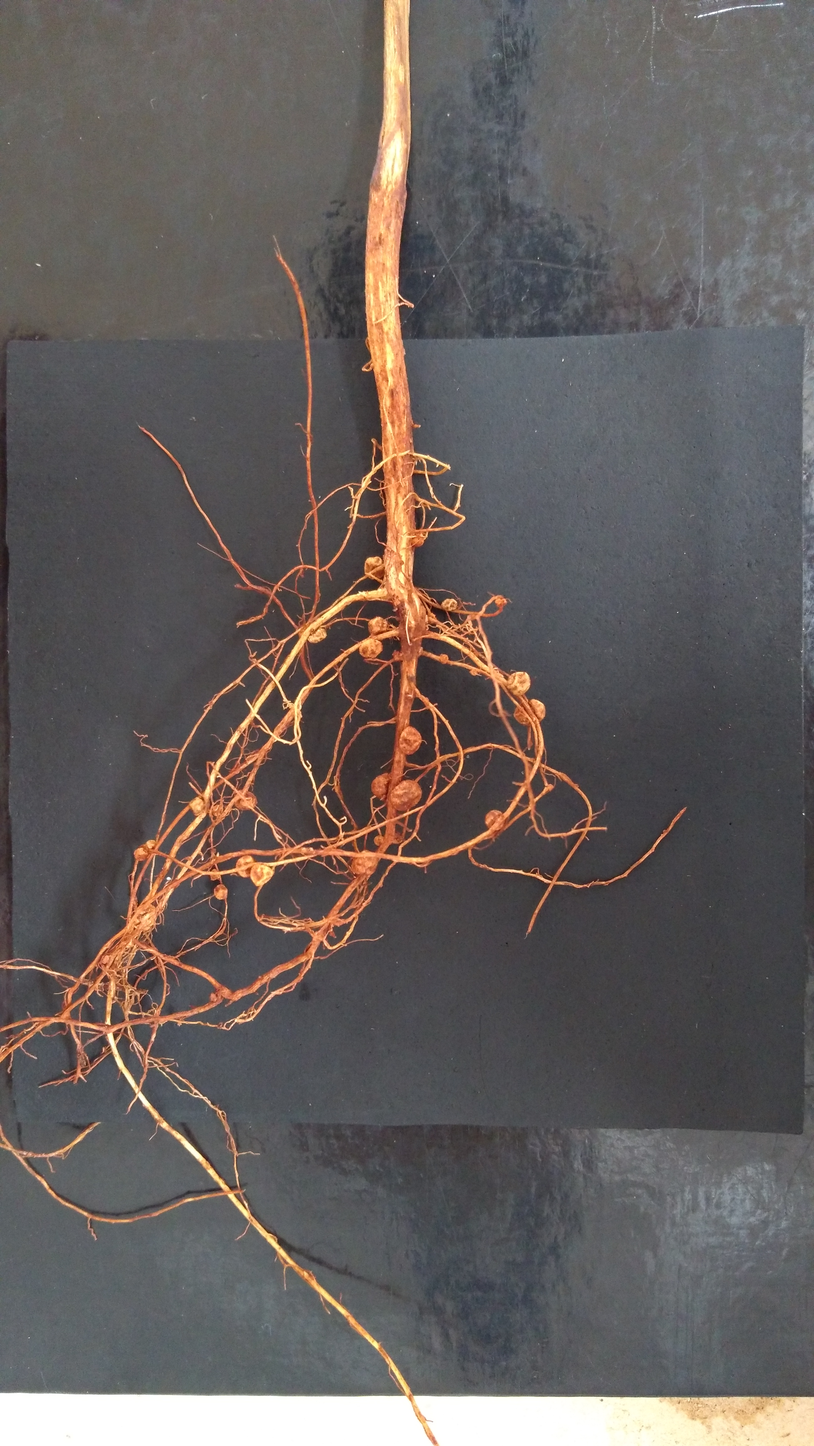nodule: (390, 779, 422, 811), (513, 698, 546, 726), (351, 849, 379, 876), (131, 903, 157, 931), (398, 725, 422, 755), (249, 863, 274, 887), (370, 773, 390, 802), (506, 671, 530, 695), (363, 556, 386, 581), (233, 789, 259, 811), (359, 638, 384, 659), (367, 616, 392, 636), (236, 854, 255, 878), (484, 809, 505, 830), (306, 626, 328, 644), (189, 795, 206, 816), (120, 928, 136, 947), (133, 846, 150, 862), (411, 531, 426, 548), (213, 883, 228, 900), (441, 598, 457, 612), (391, 830, 404, 844), (424, 612, 437, 624), (494, 597, 508, 608), (373, 834, 385, 846), (210, 867, 221, 880), (145, 839, 158, 850), (391, 649, 402, 661), (208, 991, 218, 1004), (213, 804, 223, 816), (439, 653, 449, 664), (100, 954, 110, 965), (415, 646, 424, 657), (300, 846, 315, 852), (469, 668, 478, 676), (547, 783, 554, 792), (217, 1021, 223, 1029), (210, 847, 217, 853)
